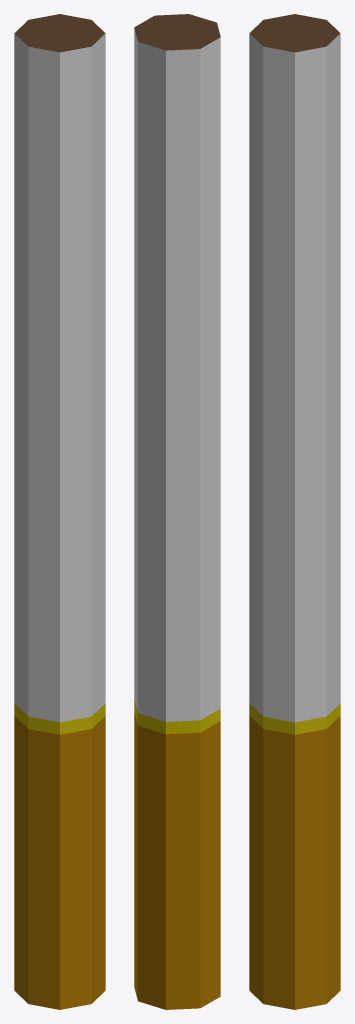
Rendered from Cigarette.fbx.
The picture shows the model from 3 angles, left to right: view 1: azimuth 90°, elevation 25°; view 2: azimuth 210°, elevation 25°; view 3: azimuth 270°, elevation 25°; orthographic projection.
Parts seen in each view (by area): view 1: Cigarette; view 2: Cigarette; view 3: Cigarette.
Part boxes in pixels (x1=…): Cigarette: x1=14, y1=14, x2=105, y2=1009; Cigarette: x1=134, y1=14, x2=220, y2=1009; Cigarette: x1=249, y1=14, x2=340, y2=1009.
Bounding box in the file's own units: 17.28 × 200 × 17.28.
